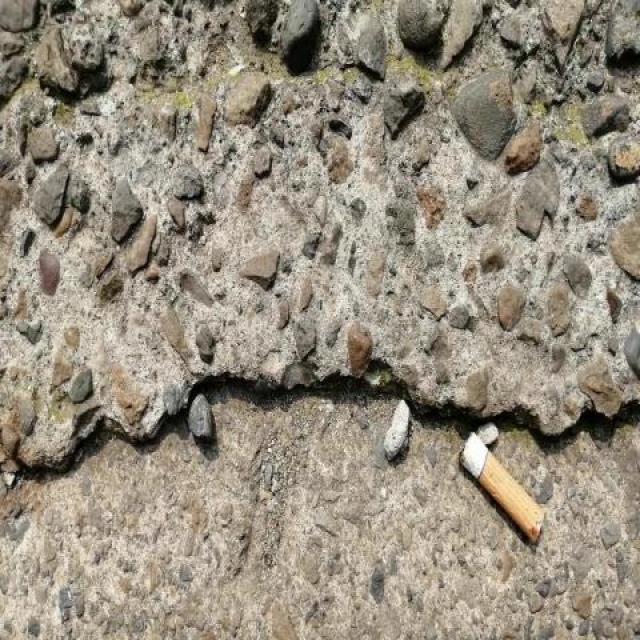non-organic waste: (456, 427, 548, 548)
